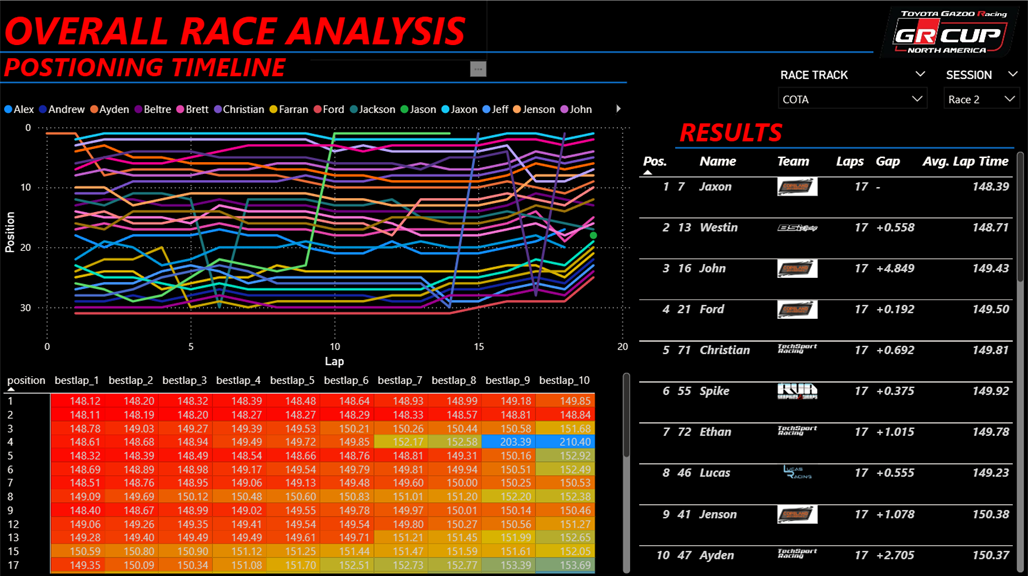

The page's visual inventory and layout, read from the dashboard file:
{"tool":"powerbi","page":{"name":"Race Analysis","canvas":[1280,720],"ordinal":1},"visuals":[{"type":"image","box":[1087.8,0,192.2,82.2],"z":0},{"type":"textbox","box":[0,0,607.5,76.6],"z":1000},{"type":"tableEx","fields":{"Values":["Sum(t_race_results.position)","t_driver_summary.number","t_driver_summary.name","t_team_info.team_image_url","t_race_results.laps","t_race_results.gap_previous","Sum(t_best_lap_data.average_lap_time_in_seconds)"]},"box":[789.7,185.5,490.3,533.6],"z":3000},{"type":"slicer","fields":{"Values":["t_event_info.meta_event_name1"]},"box":[959,82,206,63],"z":4000},{"type":"slicer","fields":{"Values":["t_event_info.meta_session_name"]},"box":[1165,82,115,63],"z":5000},{"type":"lineChart","fields":{"Category":["t_lap_time_data.lap"],"Y":["t_lap_time_data.LapRankMeasure"],"Series":["t_driver_summary.name"]},"box":[0,117.3,790.1,347.6],"z":6000},{"type":"textbox","box":[0,61.2,387.3,43.1],"z":7000},{"type":"shape","box":[0,56.9,1087.7,19.2],"z":7500},{"type":"shape","box":[0,94.9,781.5,19],"z":8000},{"type":"textbox","box":[840.8,142.3,304.6,43.1],"z":9000},{"type":"shape","box":[840.7,176.4,422.1,17.9],"z":10000},{"type":"pivotTable","fields":{"Rows":["t_driver_summary.position"],"Values":["Avg(t_top10_best_lap_data.best_lap_duration_in_seconds)"],"Columns":["t_bestlap_order.bestlap_number"]},"box":[0,460.6,790.1,259.6],"z":11000}]}

Visuals, with their boxes in screenshot pixels (x1, y1, x2, y2), scaled from the page's 1280x720 canvas onto the 1028x576 screenshot:
image: bbox(874, 0, 1027, 66)
textbox: bbox(0, 0, 488, 61)
tableEx - Sum(t_race_results.position) x t_driver_summary.number: bbox(634, 148, 1027, 575)
slicer - t_event_info.meta_event_name1: bbox(770, 66, 936, 116)
slicer - t_event_info.meta_session_name: bbox(936, 66, 1027, 116)
lineChart - t_lap_time_data.lap x t_lap_time_data.LapRankMeasure: bbox(0, 94, 635, 372)
textbox: bbox(0, 49, 311, 83)
shape: bbox(0, 46, 874, 61)
shape: bbox(0, 76, 628, 91)
textbox: bbox(675, 114, 920, 148)
shape: bbox(675, 141, 1014, 155)
pivotTable - t_driver_summary.position x Avg(t_top10_best_lap_data.best_lap_duration_in_seconds): bbox(0, 368, 635, 575)
